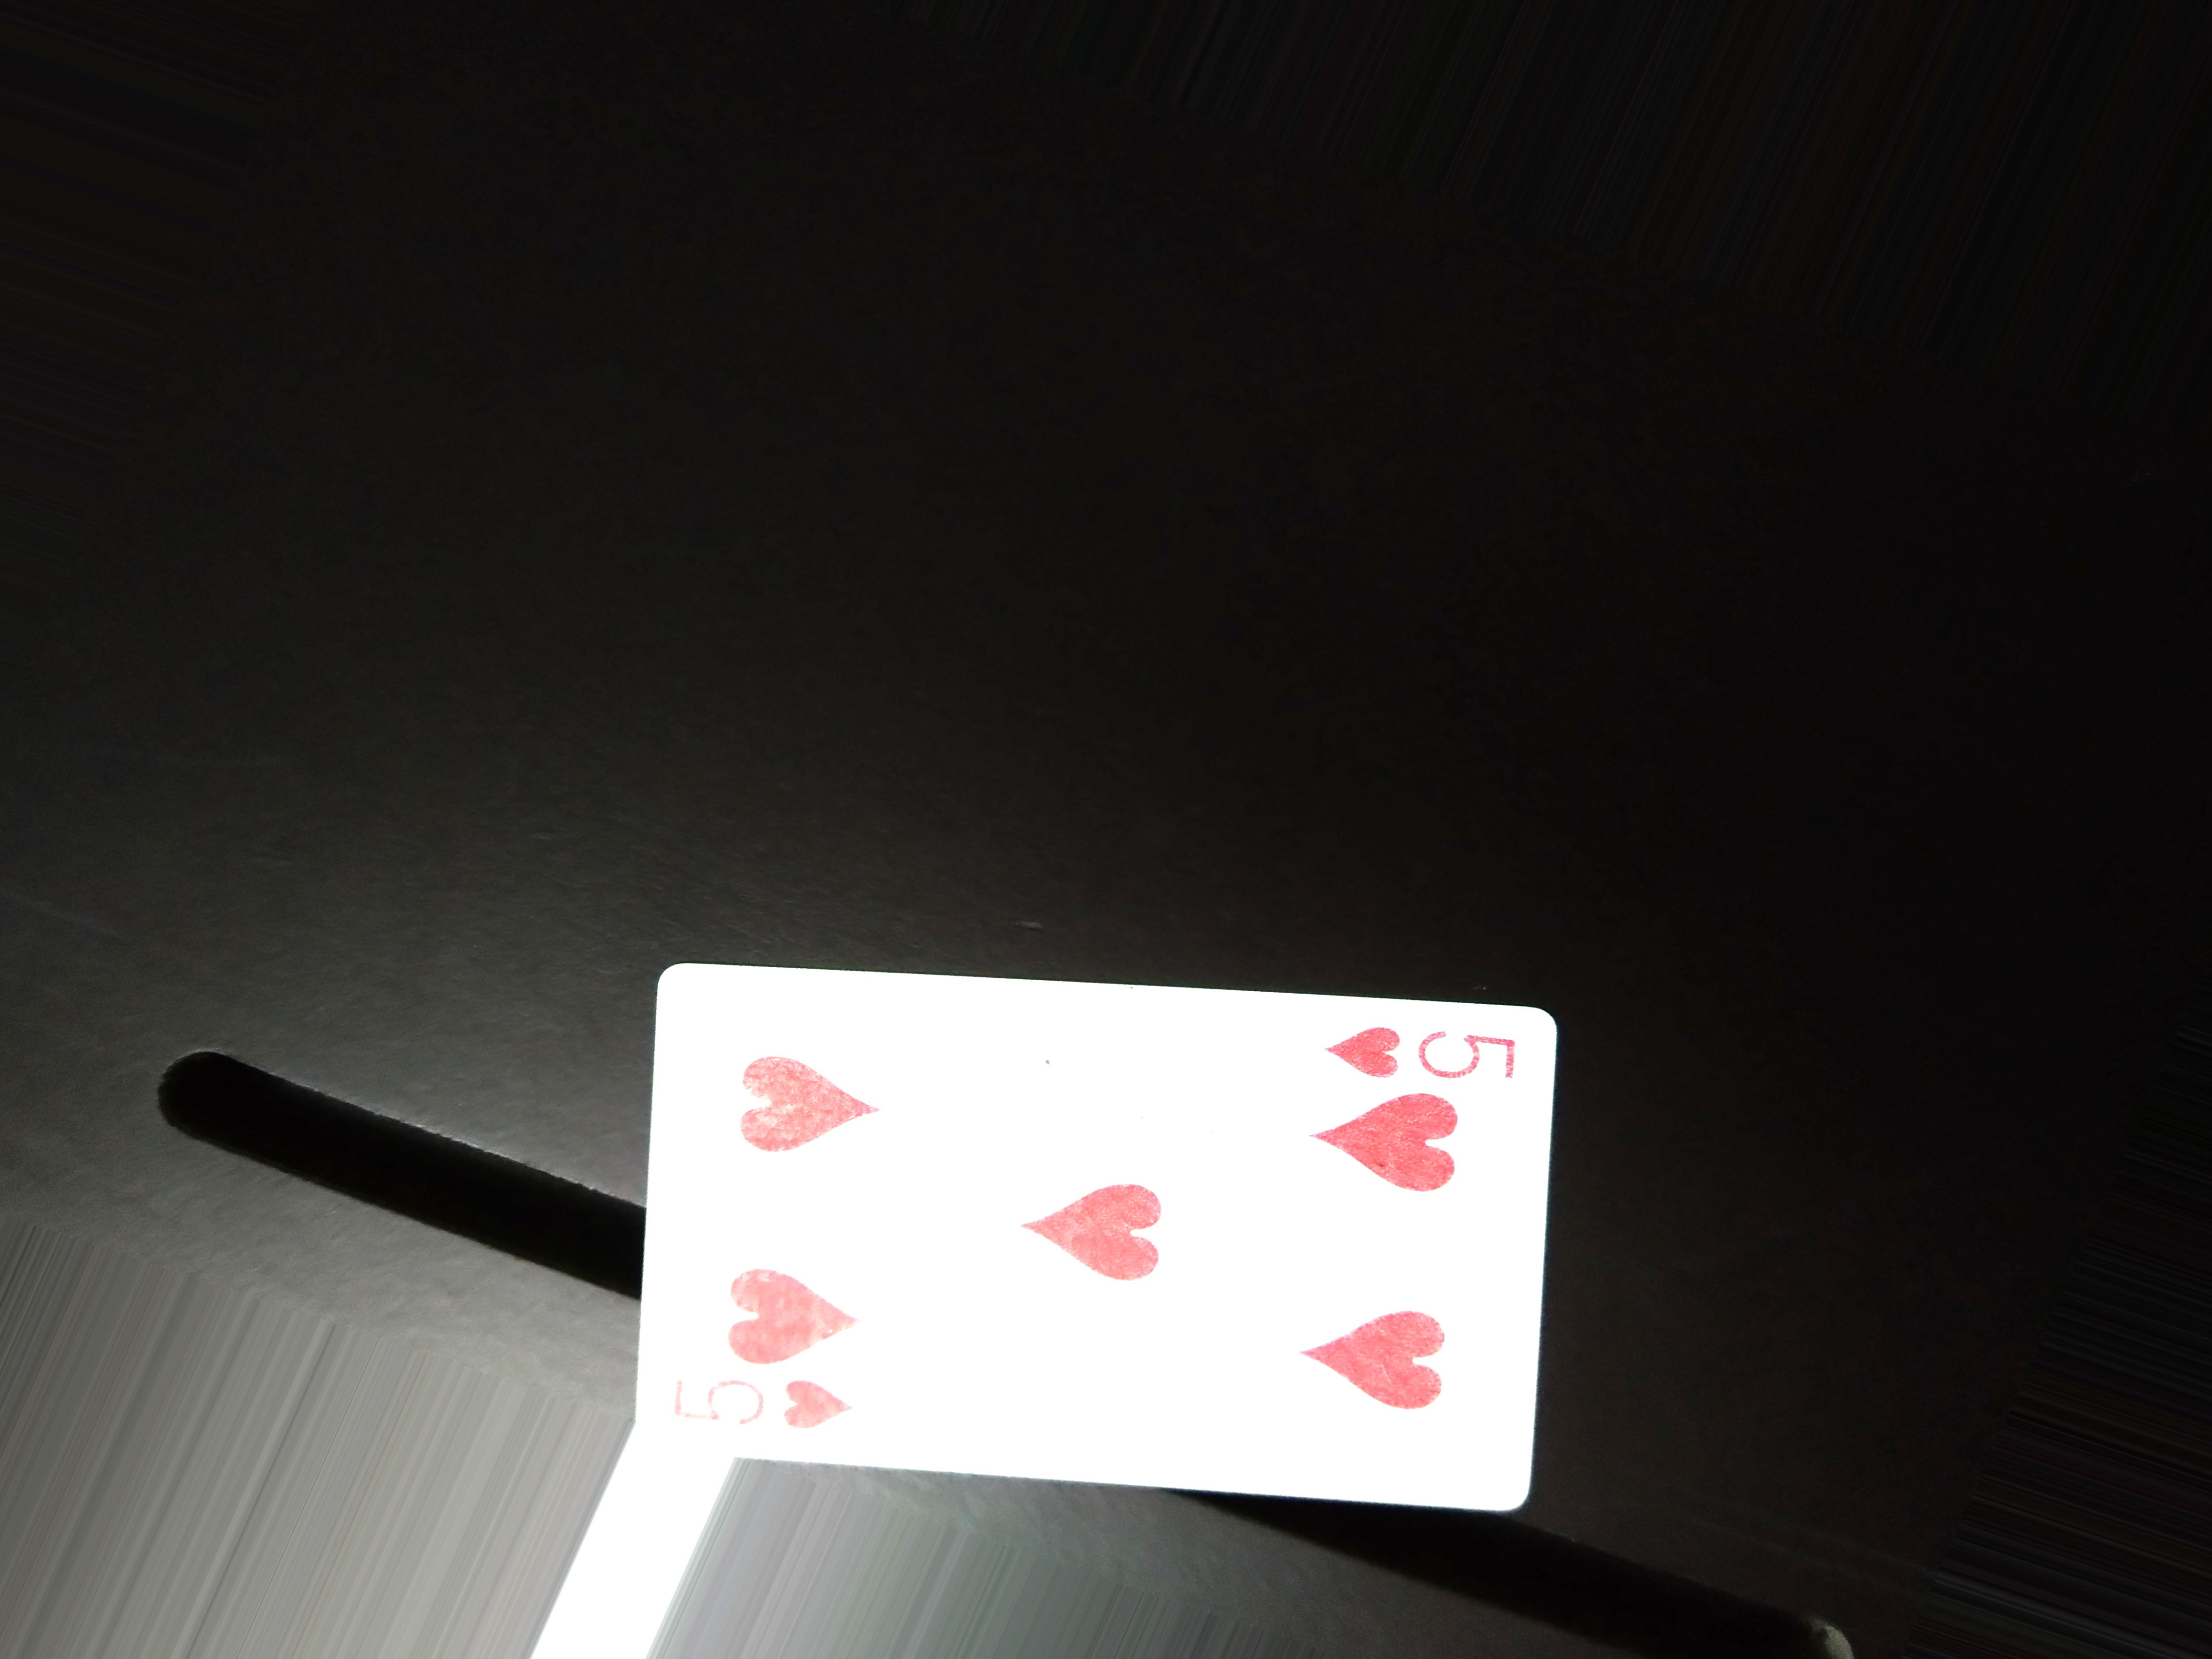5H: (1322, 1019, 1531, 1094)
